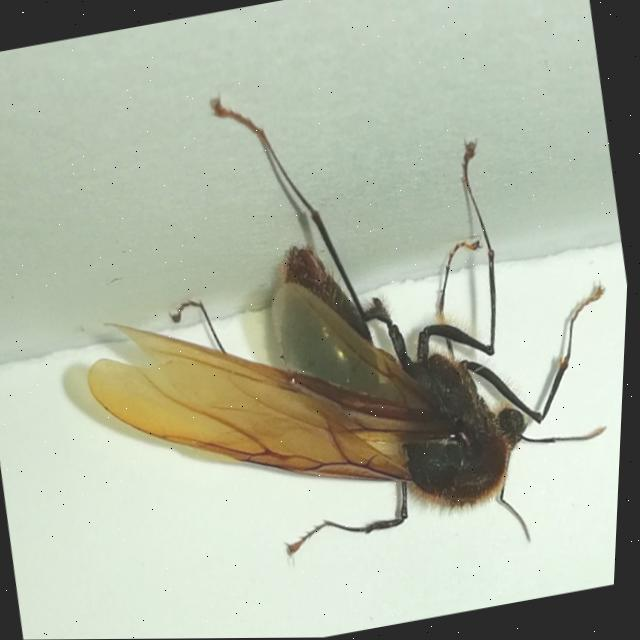Alive-Female-Alate: (35, 25, 639, 619)
